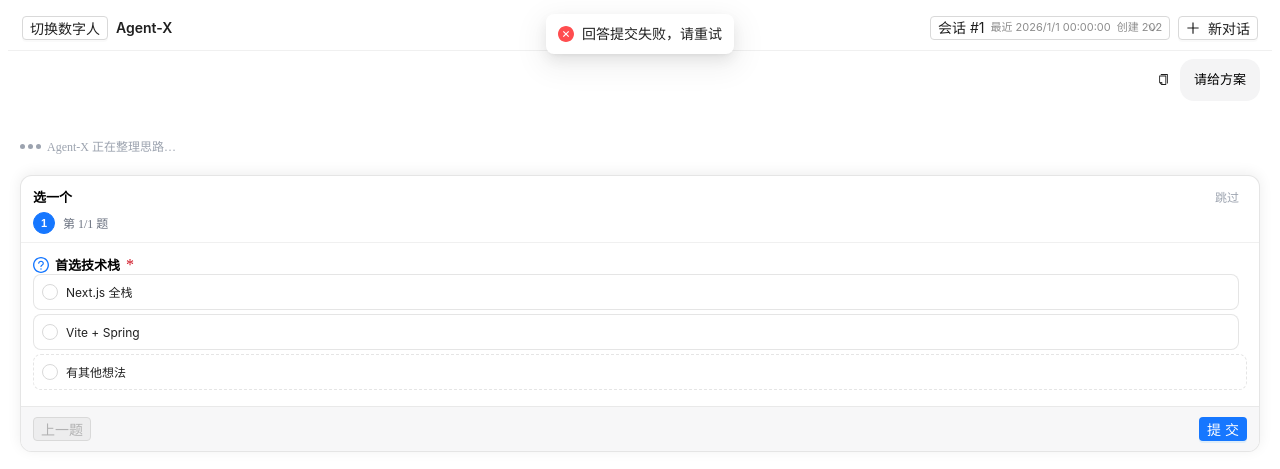
Test: WorkitemClarificationPanel ACP 交互接线 › 对已结算（409 CONFLICT）的问题：撤下卡片并提示已失效，解除卡死
Click the button with test id "elicitation-skip-req-1".
click(1227, 196)  # box [1207,184,1247,208]
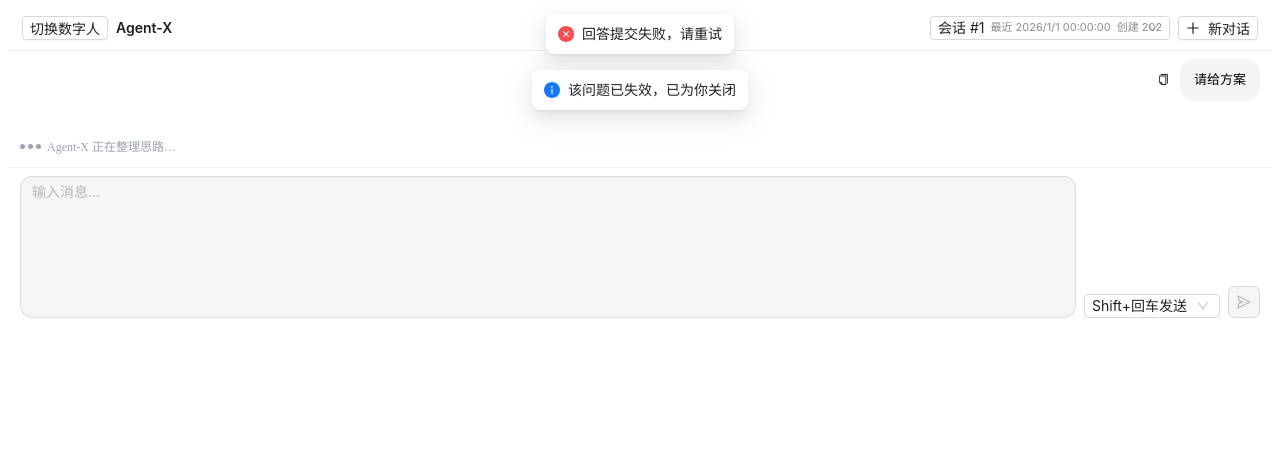
Expected: the text "该问题已失效，已为你关闭" is shown, [568,79,736,101]
Expected: the element with test id "elicitation-wizard-req-1" is gone
Expected: the text box with placeholder "输入消息..." is shown, [20,176,1076,318]
